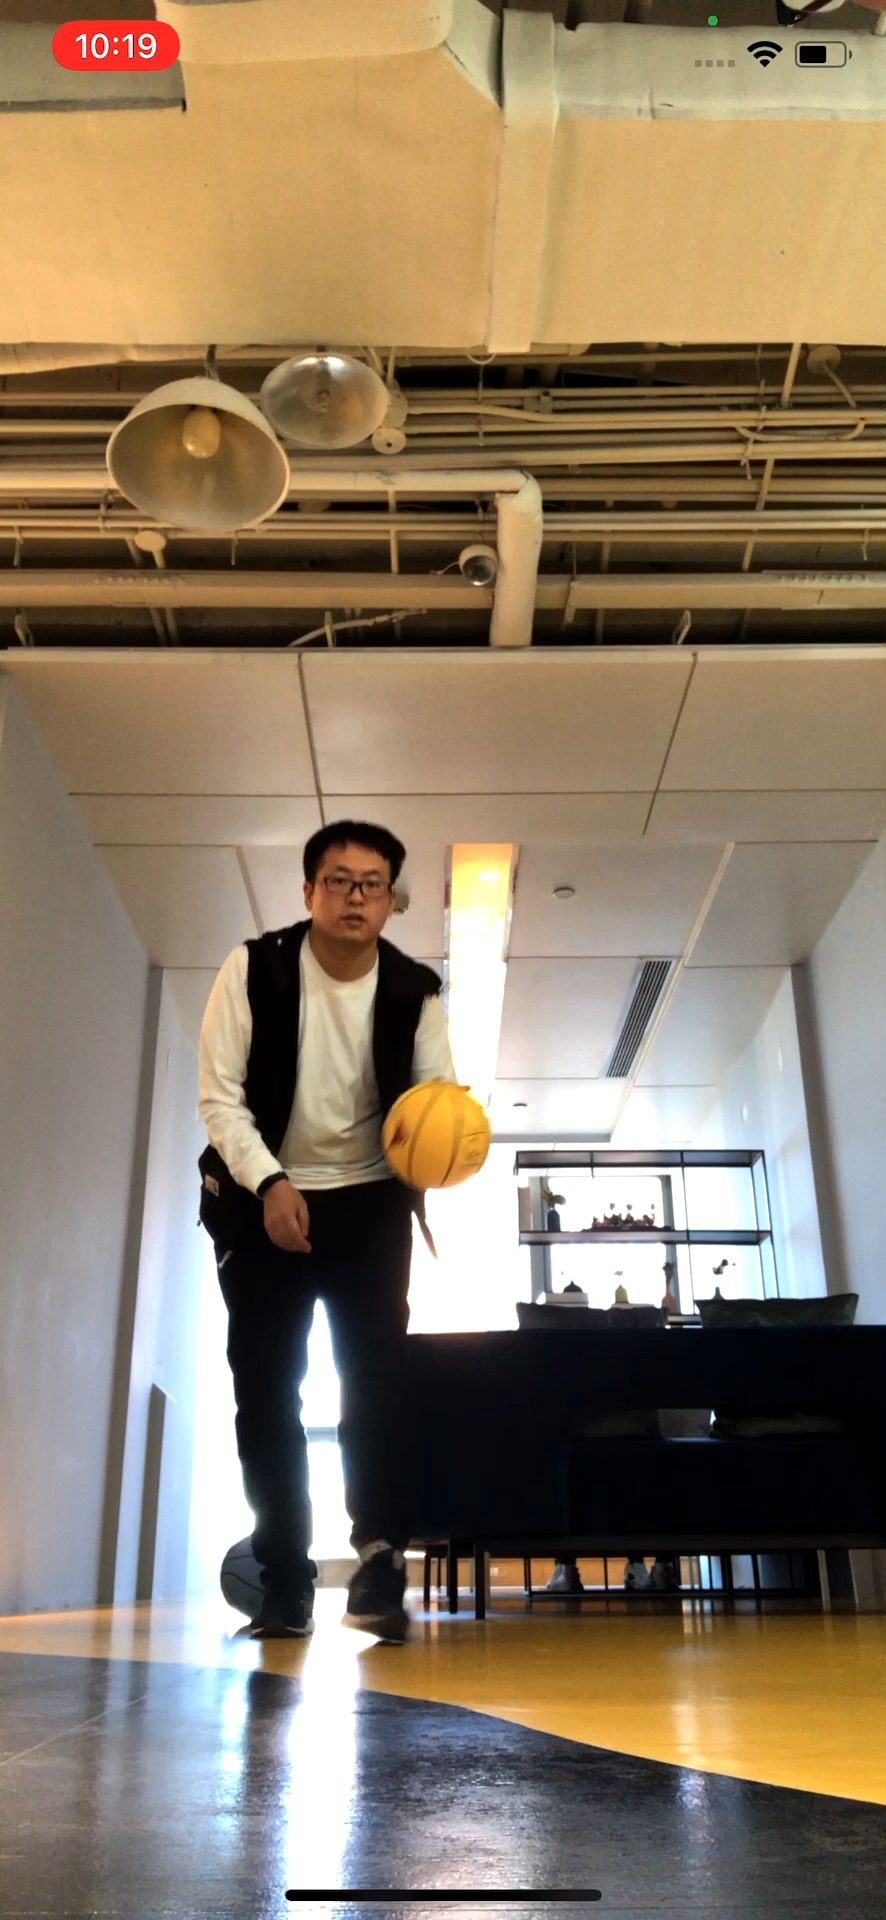ball: (384, 1076, 490, 1194)
